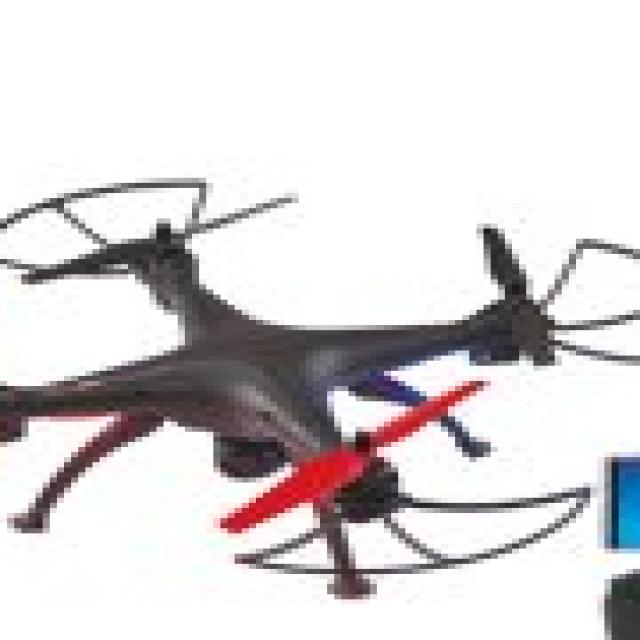drone: (0, 188, 640, 589)
